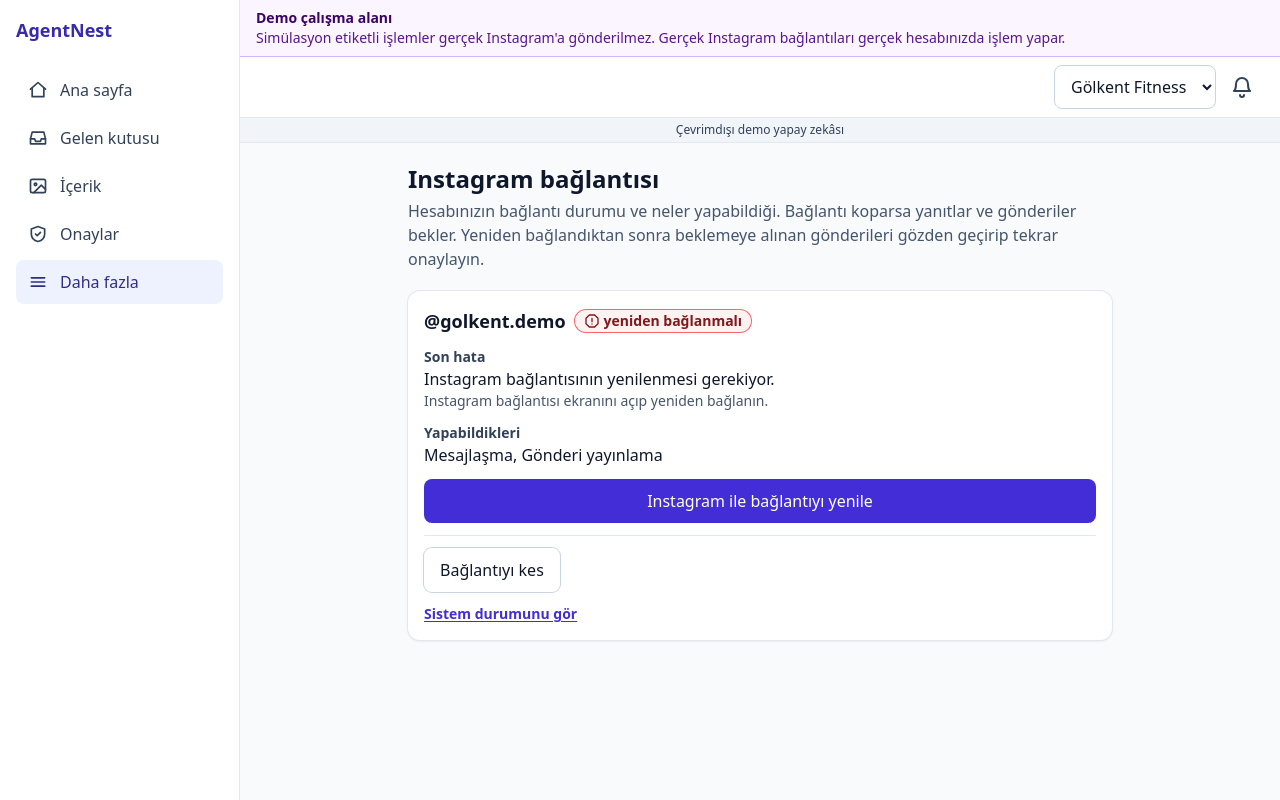
Test case: Instagram authorization › redirects once for Meta connect/reconnect (true)
Double-click the button "Instagram ile bağlantıyı yenile": point(760, 501) [424, 479, 1096, 523]
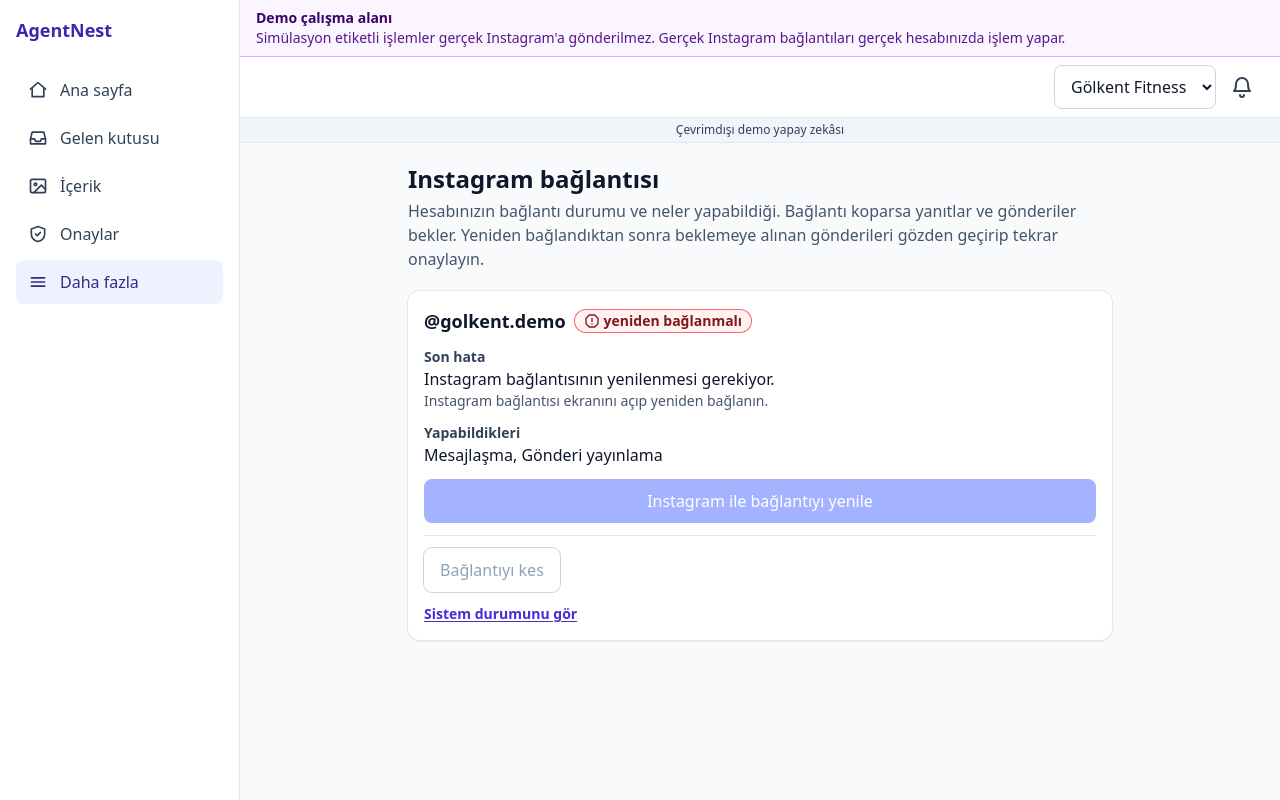
Expected: the button "Instagram ile bağlantıyı yenile" is disabled, [424, 479, 1096, 523]
